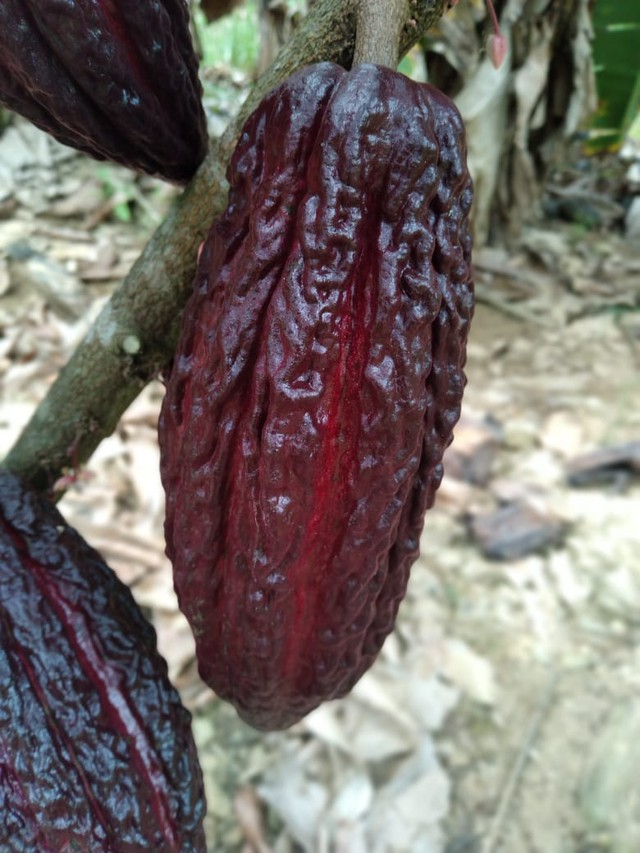Health: (146, 26, 491, 748)
